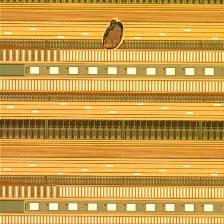PARTICLE: (98, 20, 130, 52)
